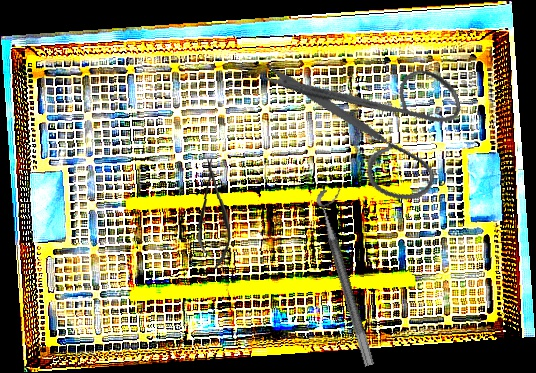Fixation Ring: (313, 185, 390, 368)
Iris Scissors: (255, 17, 481, 230)
Micro Scissor: (195, 157, 232, 270)
